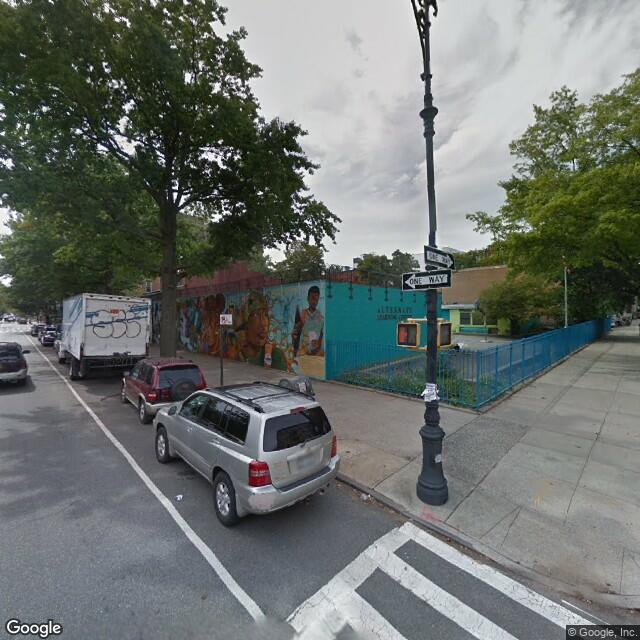litter: (356, 490, 384, 511), (168, 487, 194, 507)
